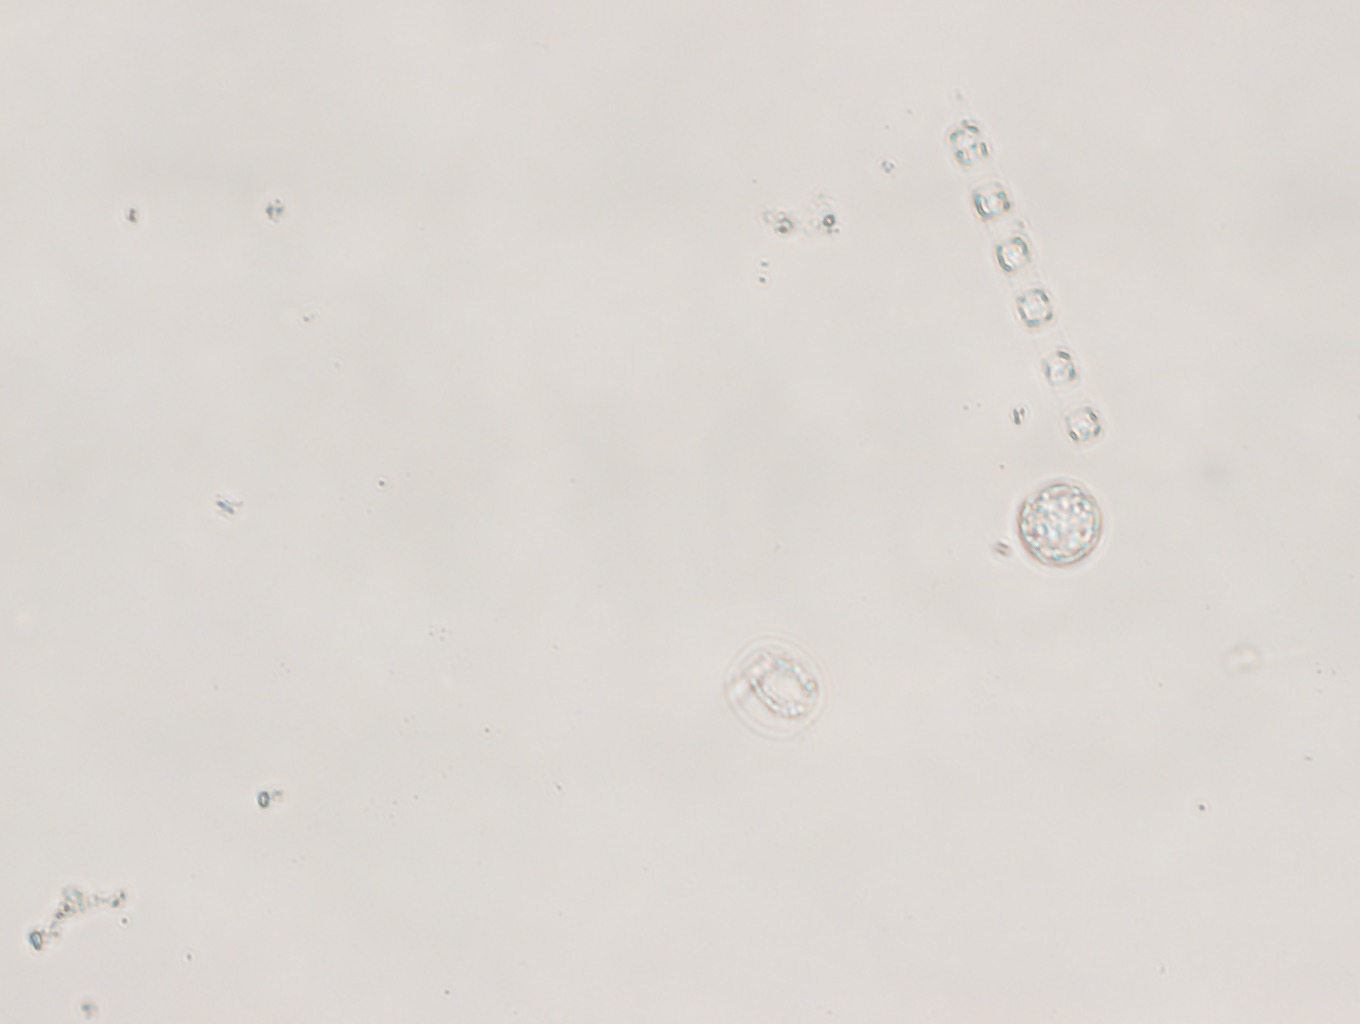skeletonema: (945, 100, 1106, 450)
